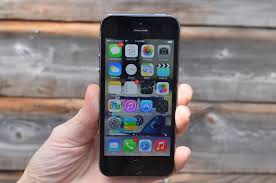iphone: (97, 10, 183, 178)
iphone5: (96, 12, 182, 180)
